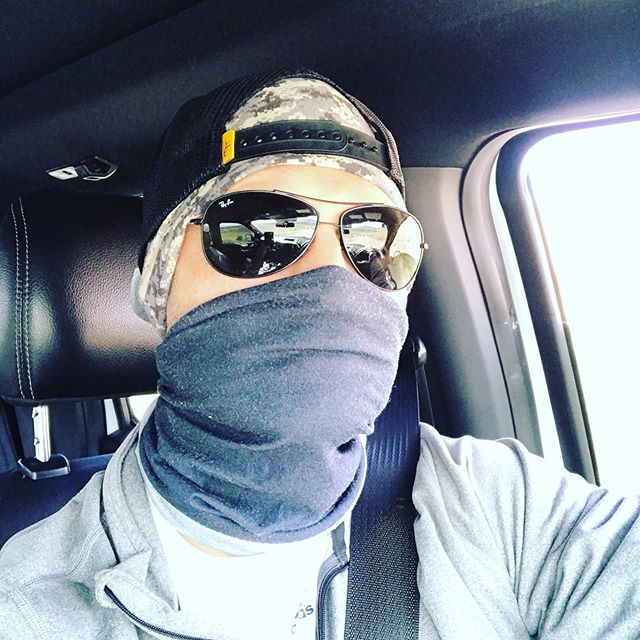homemade: (130, 263, 416, 535)
